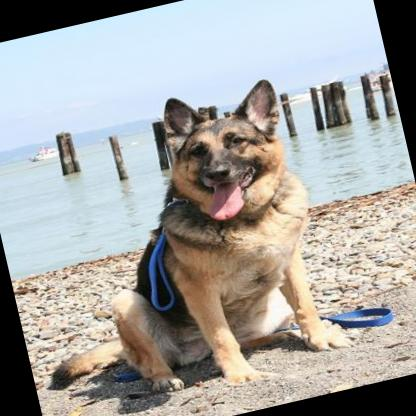German_shepherd: (0, 69, 354, 416)
